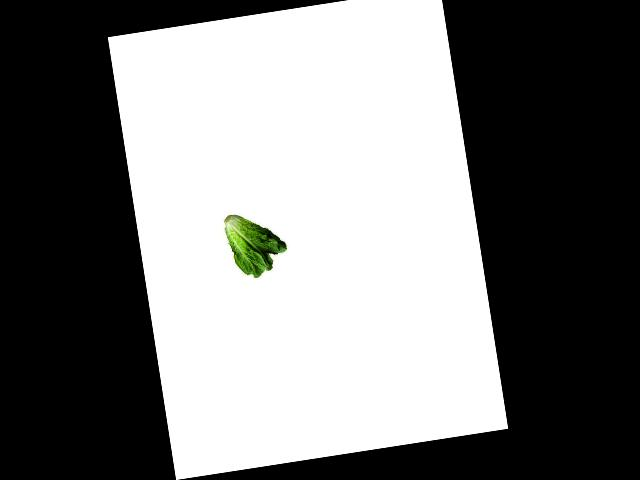lettuce: (217, 203, 293, 281)
